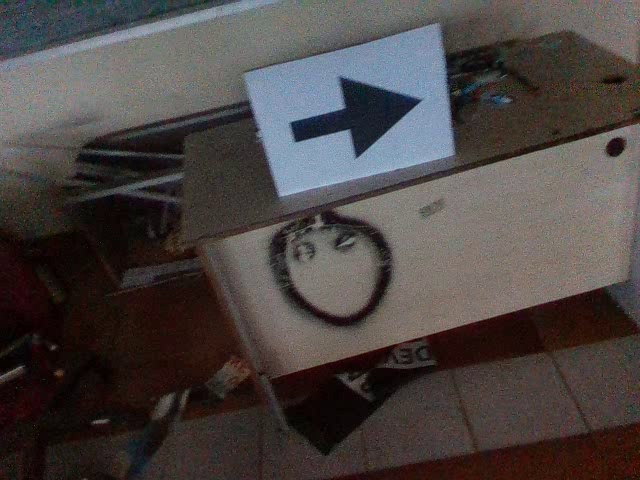Right: (285, 71, 427, 163)
